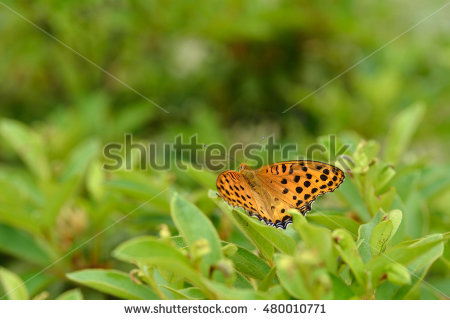Argyreus hyperbius: (209, 150, 348, 225)
butterfly: (211, 152, 350, 227)
